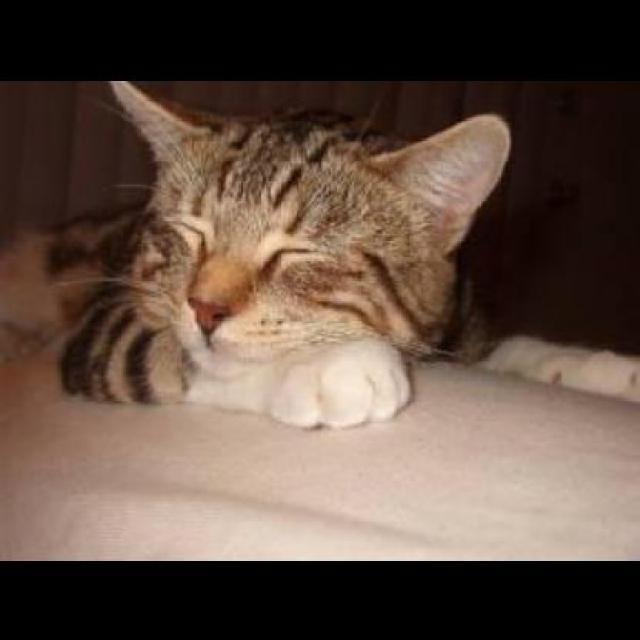unauthorized: (0, 77, 638, 434)
